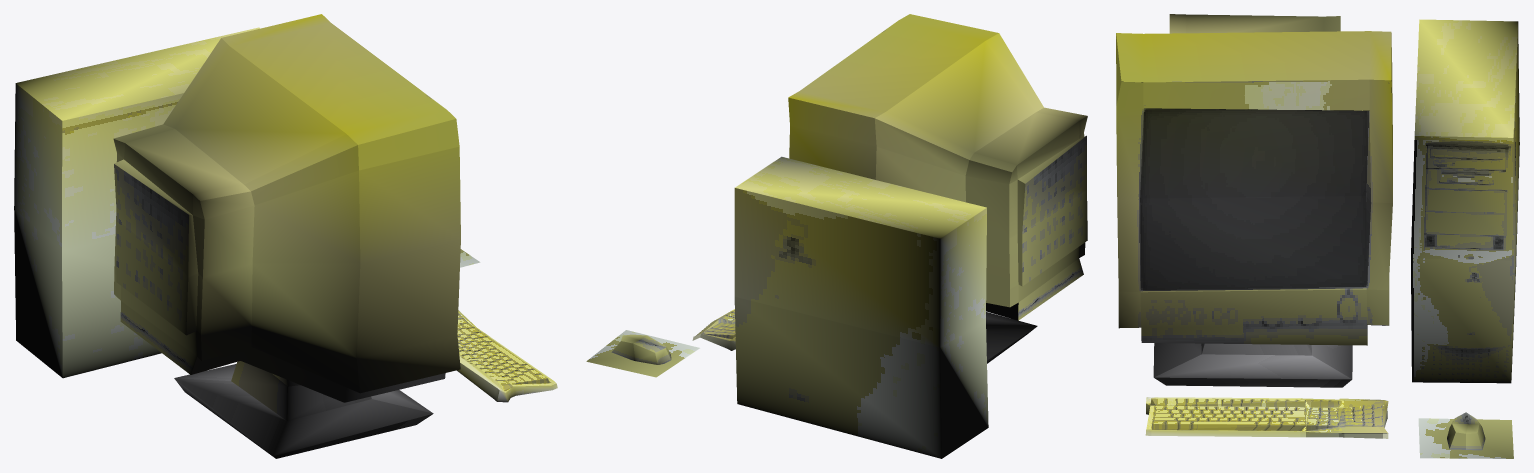
File: computer.glb
3 views of the same model, side by side, from view 1: azimuth 30°, elevation 25°; view 2: azimuth 150°, elevation 25°; view 3: azimuth 270°, elevation 25° (orthographic). The views are drawn at different scales.
Parts seen in each view (by area): view 1: Monitor, Case, Tastiera; view 2: Case, Monitor, Mouse, Tastiera; view 3: Monitor, Case, Tastiera, Mouse.
Boxes of the visible parts, x1,y1,x2,y2 form: Monitor: [113, 14, 460, 458]; Case: [14, 27, 259, 378]; Tastiera: [457, 310, 557, 402]; Case: [734, 156, 988, 458]; Monitor: [788, 14, 1087, 363]; Mouse: [586, 330, 699, 377]; Tastiera: [692, 309, 735, 350]; Monitor: [1116, 14, 1392, 387]; Case: [1411, 19, 1519, 383]; Tastiera: [1145, 397, 1388, 438]; Mouse: [1418, 412, 1513, 458].
Size of the model in its own units: 3.48 by 2.57 by 2.96.
Materials: 1 (1 with a texture image).
